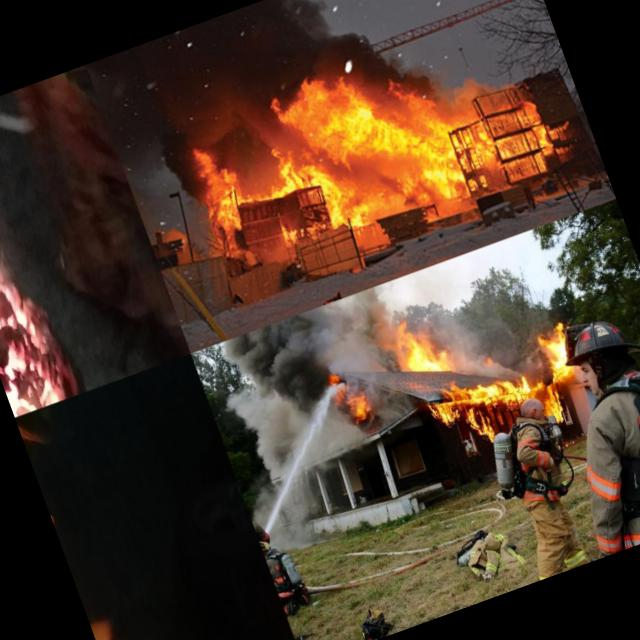fire: (178, 53, 436, 286), (389, 33, 572, 215), (0, 107, 75, 417), (426, 356, 537, 429), (388, 309, 458, 391), (529, 319, 584, 386), (339, 382, 380, 432), (465, 411, 500, 452), (540, 390, 568, 428)
smoke: (98, 4, 374, 149), (199, 284, 406, 422), (86, 0, 327, 97), (238, 396, 326, 492), (441, 306, 518, 378), (148, 125, 206, 208)
